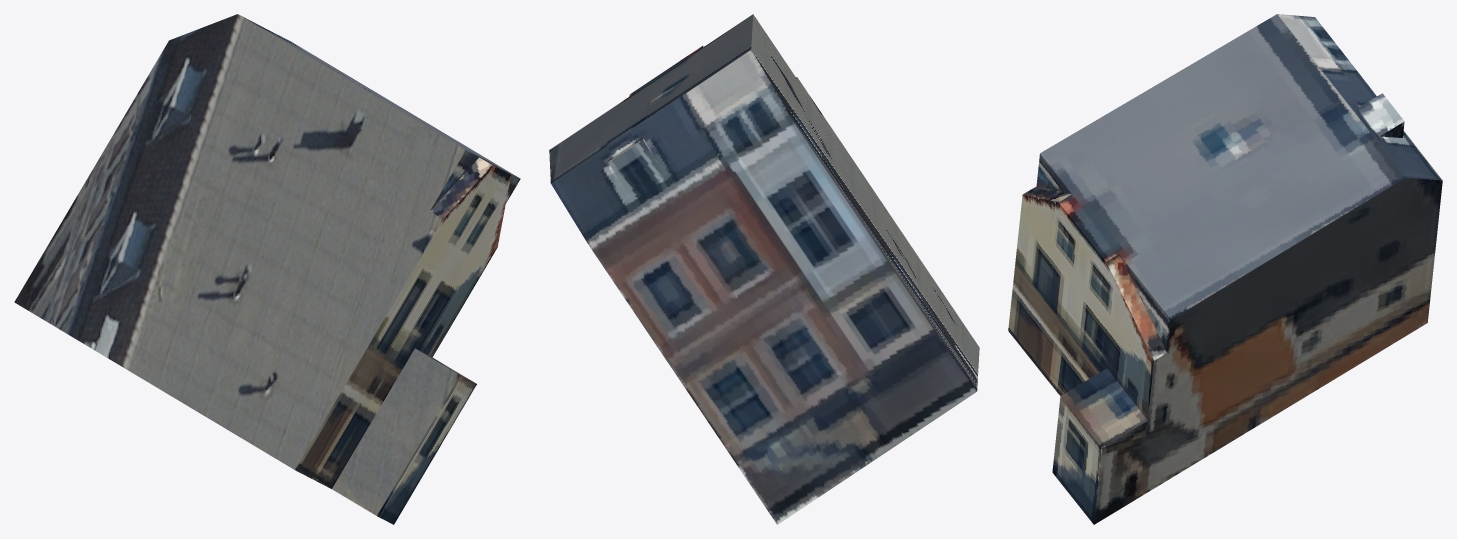
3 renders of one model, left to right at view 1: azimuth 30°, elevation 25°; view 2: azimuth 150°, elevation 25°; view 3: azimuth 270°, elevation 25°, orthographic. The views are drawn at different scales.
Visible parts, largest first — view 1: BAG_0599100000650090 (×4); view 2: BAG_0599100000650090 (×6); view 3: BAG_0599100000650090 (×6).
Part boxes in pixels (x1,y1,x2,y2): BAG_0599100000650090 (×4): [14, 14, 518, 524]; BAG_0599100000650090 (×6): [549, 14, 979, 524]; BAG_0599100000650090 (×6): [1008, 14, 1442, 524].
Size of the model in its own units: 16.45 by 16.38 by 13.52.
Materials: 1 (1 with a texture image).
